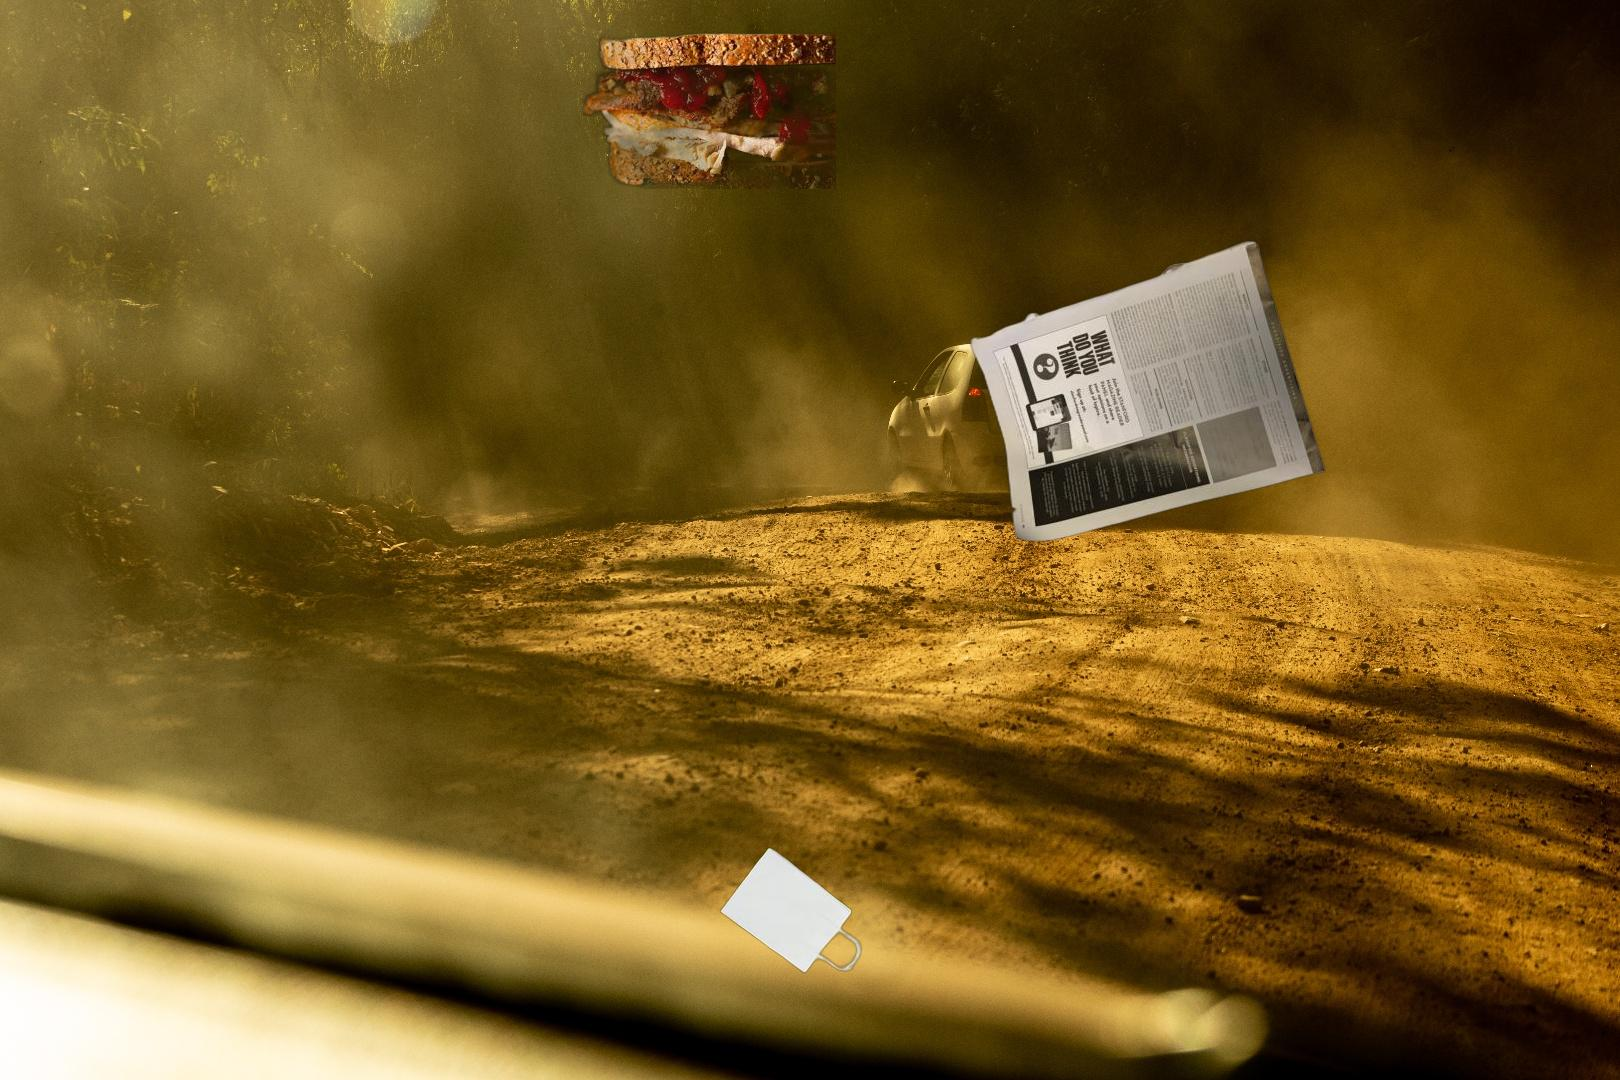biological: (569, 6, 836, 189)
paper: (965, 237, 1329, 545)
paper-bag: (717, 844, 864, 975)
